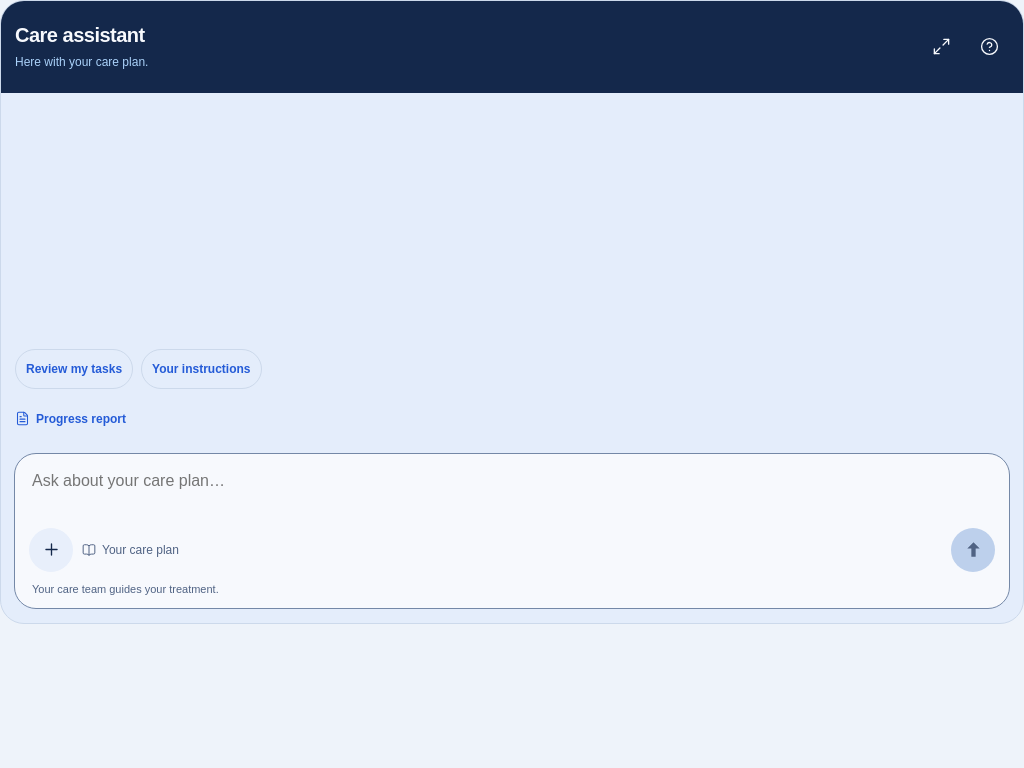
shows the live bot reply and offers Send to my doctor when suggested
Step 1. Click the button "Review my tasks" → (74, 369), box [15,349,133,389]
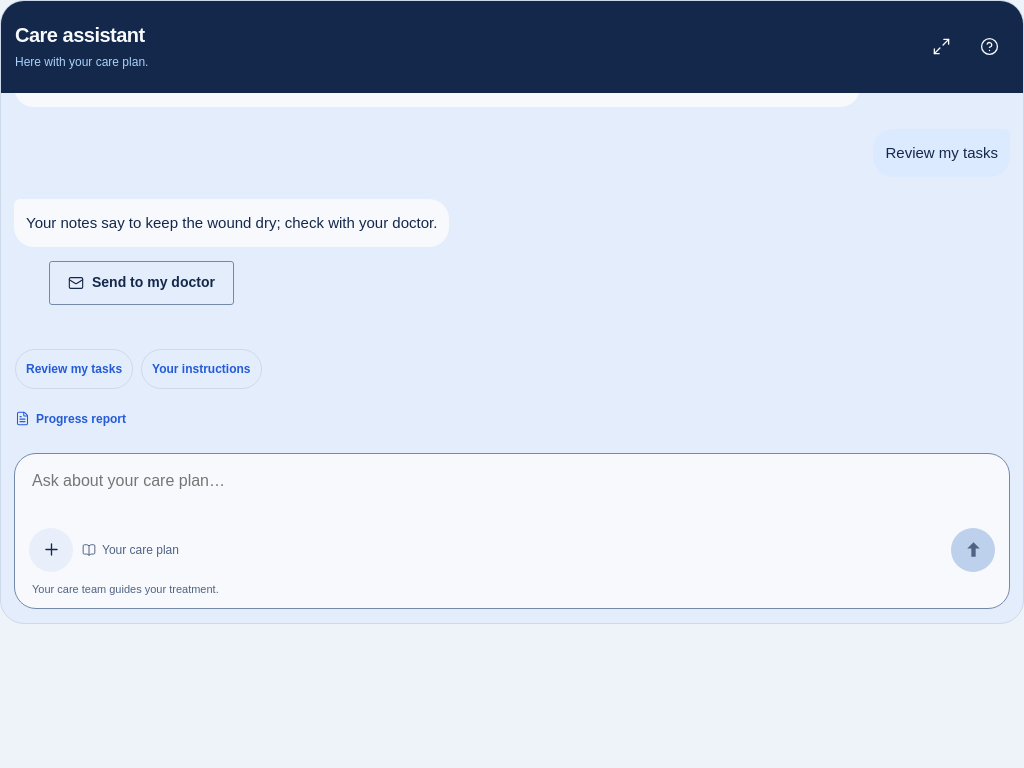
Now the element named "Care conversation" shows "keep the wound dry", box [26,214,437,231]
Now the button "Send to my doctor" is shown
Step 2. Click the button "Send to my doctor" → (141, 283), box [49,261,234,305]
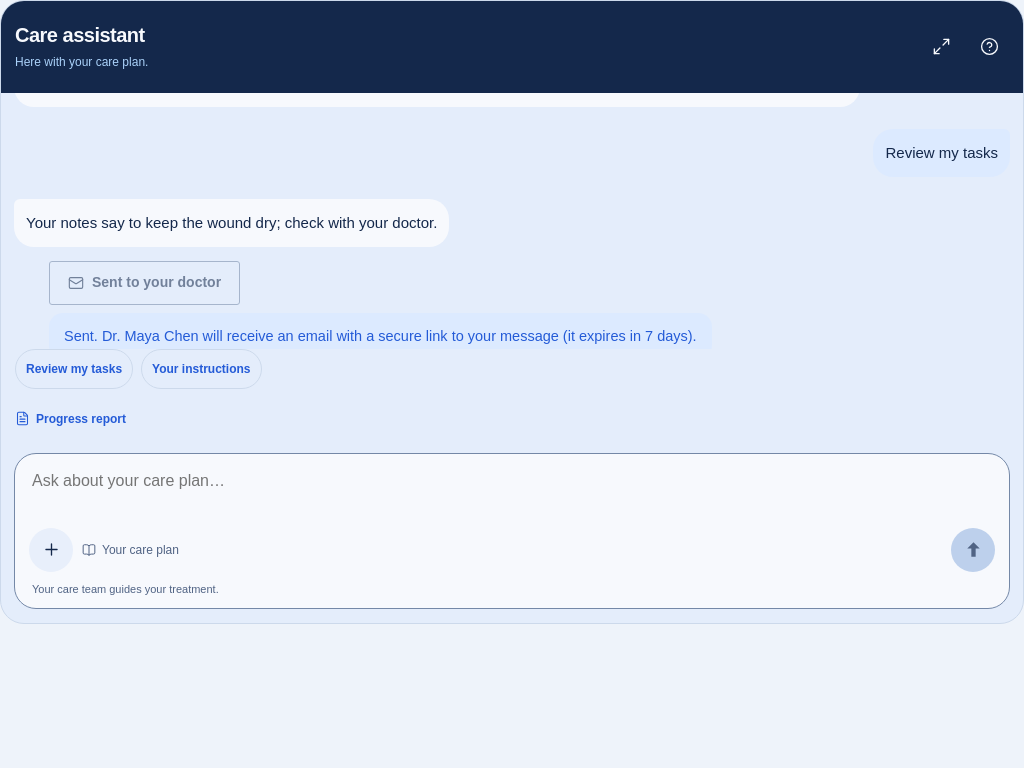
Now the element named "Care conversation" shows "secure link", box [64,328,697,344]
